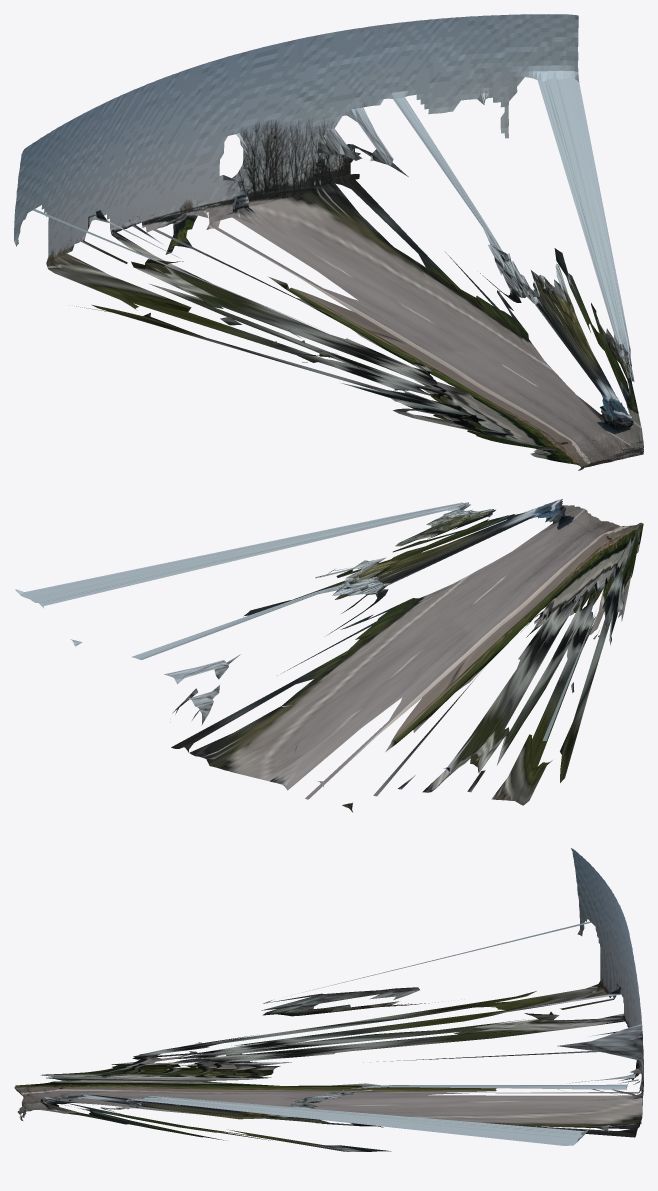
The picture shows the model from 3 angles, top to bottom: view 1: azimuth 30°, elevation 25°; view 2: azimuth 150°, elevation 25°; view 3: azimuth 270°, elevation 25°; orthographic projection. The views are drawn at different scales.
Visible parts, largest first — view 1: defaultobject; view 2: defaultobject; view 3: defaultobject.
Boxes of the visible parts, x1,y1,x2,y2 form: defaultobject: (14,14,643,470); defaultobject: (15,499,643,812); defaultobject: (14,848,643,1151).
Bounding box in the file's own units: 40.95 × 12.81 × 44.64.
Materials: 1 (1 with a texture image).
